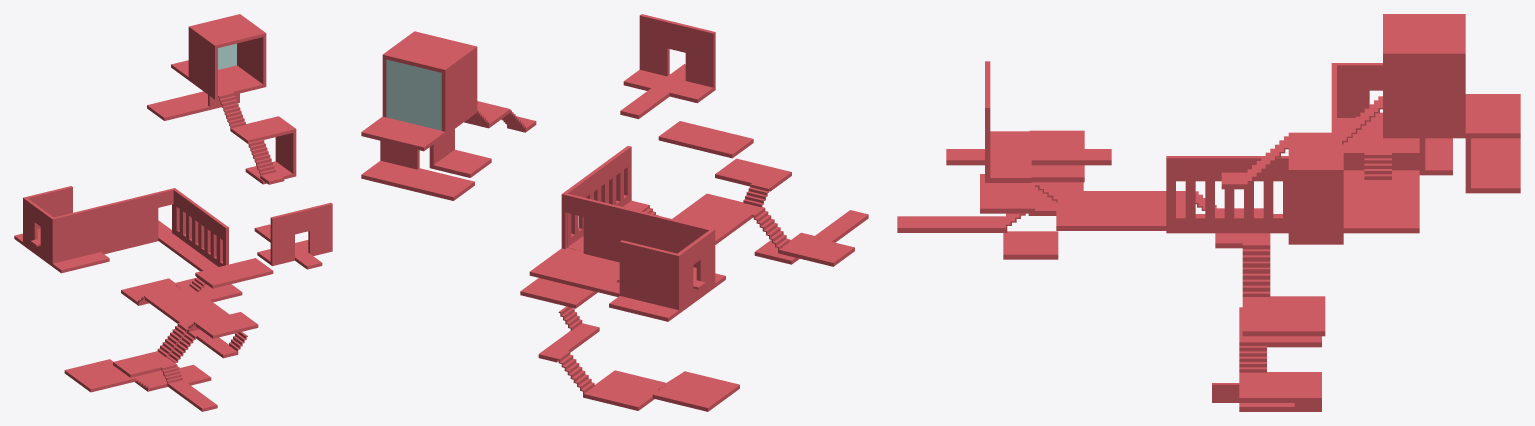
The model's file is stage1-1.fbx.
The picture shows the model from 3 angles, left to right: view 1: azimuth 30°, elevation 25°; view 2: azimuth 150°, elevation 25°; view 3: azimuth 270°, elevation 25°; orthographic projection. The views are drawn at different scales.
Parts seen in each view (by area): view 1: Slab&Stair, Wall, window; view 2: Slab&Stair, Wall, window; view 3: Slab&Stair, Wall.
Part boxes in pixels (x1,y1,x2,y2): Slab&Stair: [14, 15, 322, 411]; Wall: [23, 14, 332, 266]; window: [218, 43, 236, 69]; Slab&Stair: [361, 32, 868, 411]; Wall: [380, 14, 715, 313]; window: [386, 59, 441, 130]; Slab&Stair: [897, 16, 1520, 411]; Wall: [985, 14, 1470, 244].
Size of the model in its own units: 5949 by 6533 by 8210.
